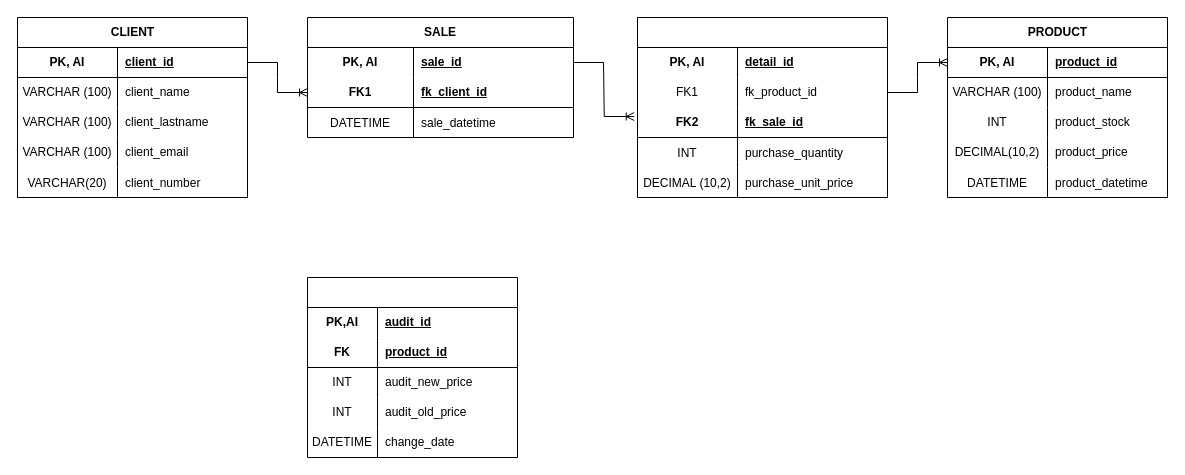
This 1185x475 diagram has some shape labels left out. The shapes that lost their labels are listed below. From the top down, each one's box as (x1, y1, x2, y2) in pixels, then its label:
(636, 16, 888, 198): SALE_DETAIL
(306, 276, 518, 458): AUDIT_PRICE (TRIGGERS)
